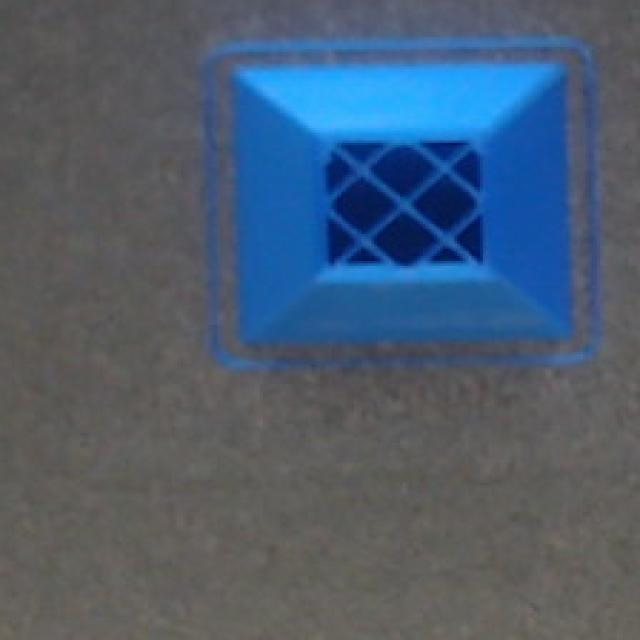noMistake: (230, 57, 580, 351)
